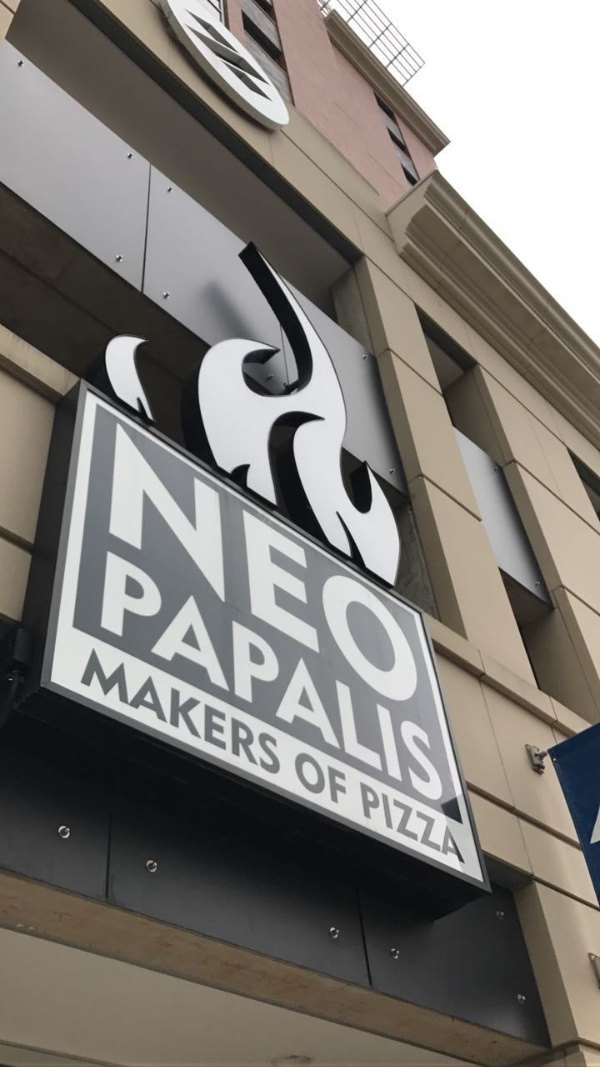text: (129, 420, 144, 724), (145, 420, 160, 724), (161, 420, 176, 724), (177, 420, 192, 724), (193, 420, 208, 724), (209, 420, 224, 724), (225, 420, 240, 724), (241, 420, 256, 724), (257, 420, 272, 724), (273, 420, 288, 724), (289, 420, 304, 724), (305, 420, 320, 724), (321, 420, 336, 724), (337, 420, 352, 724), (353, 420, 368, 724), (369, 420, 384, 724), (385, 420, 400, 724), (401, 420, 416, 724), (114, 420, 128, 724), (417, 420, 431, 724), (113, 547, 128, 807), (129, 547, 144, 807), (145, 547, 160, 807), (161, 547, 176, 807), (177, 547, 192, 807), (193, 547, 208, 807), (209, 547, 224, 807), (225, 547, 240, 807), (241, 547, 256, 807), (257, 547, 272, 807), (273, 547, 288, 807), (289, 547, 304, 807), (305, 547, 320, 807), (321, 547, 336, 807), (337, 547, 352, 807), (353, 547, 368, 807), (369, 547, 384, 807), (385, 547, 400, 807), (401, 547, 416, 807), (417, 547, 432, 807), (433, 547, 447, 807), (97, 647, 112, 778), (113, 647, 128, 778), (129, 647, 144, 778), (145, 647, 160, 778), (161, 647, 176, 778), (177, 647, 192, 778), (193, 647, 208, 778), (209, 647, 224, 778), (225, 647, 240, 778), (241, 647, 256, 778), (257, 647, 272, 778), (105, 547, 112, 807), (369, 780, 384, 866), (385, 780, 400, 866), (401, 780, 416, 866), (417, 780, 432, 866), (433, 780, 448, 866), (449, 780, 464, 866), (273, 647, 281, 778), (357, 780, 368, 866), (305, 749, 320, 807), (321, 749, 336, 807), (337, 749, 350, 807), (91, 647, 96, 778), (294, 749, 304, 807), (465, 780, 467, 866)
